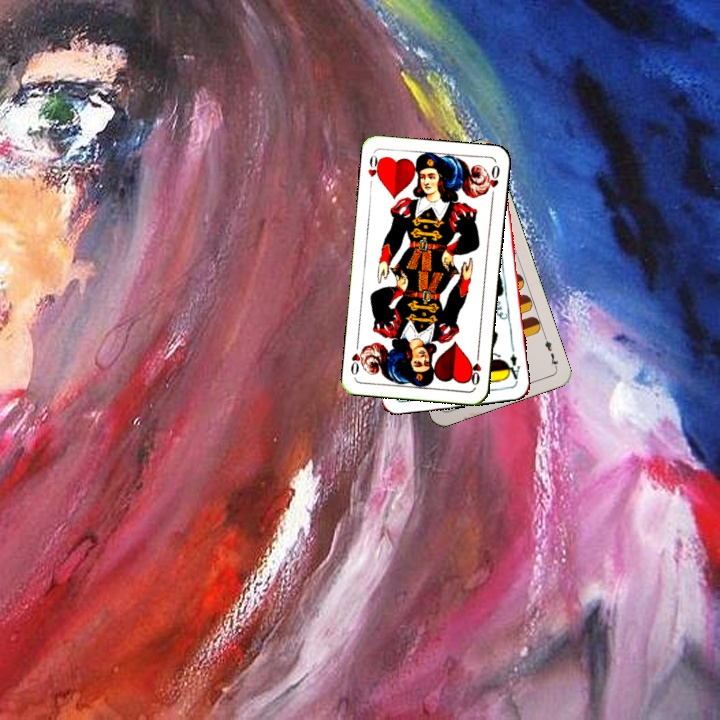E7: (540, 332, 561, 371)
EA: (502, 350, 523, 385)
HO: (466, 348, 484, 388), (364, 151, 384, 182)
